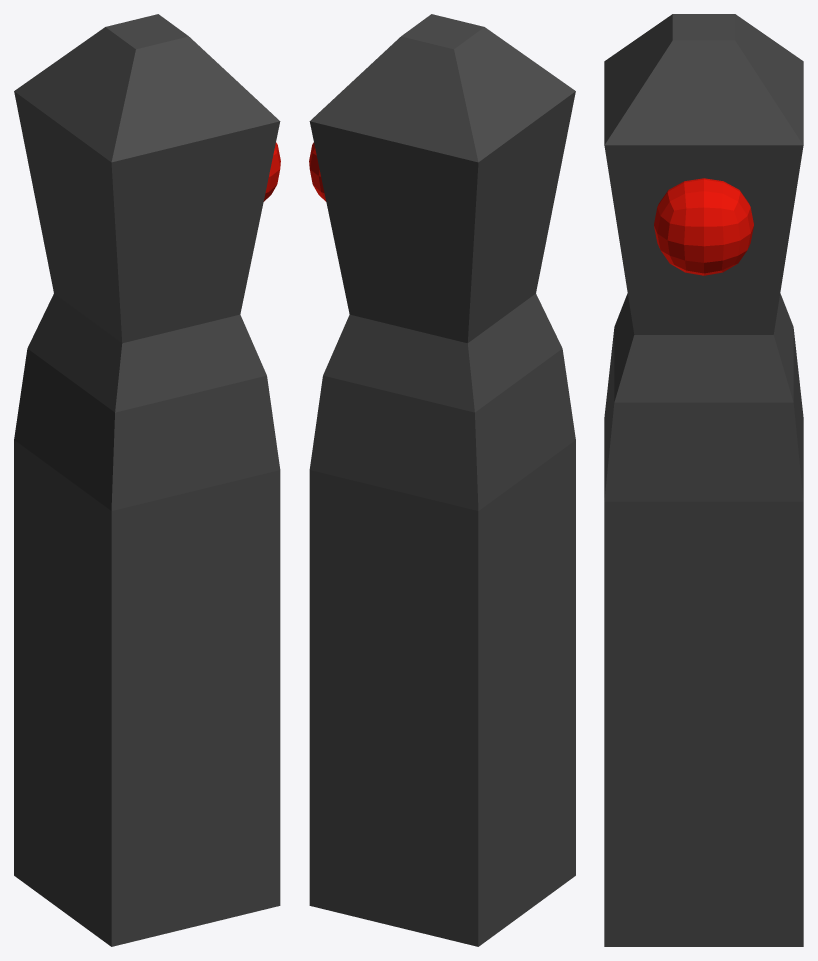
The model's file is button.fbx.
The picture shows the model from 3 angles, left to right: view 1: azimuth 30°, elevation 25°; view 2: azimuth 150°, elevation 25°; view 3: azimuth 270°, elevation 25°; orthographic projection. The views are drawn at different scales.
Visible parts, largest first — view 1: Cube; view 2: Cube; view 3: Cube, Cube.001.
Part boxes in pixels (box(x1,y1,x2,y2)): Cube: box(14, 14, 280, 946); Cube: box(309, 14, 575, 946); Cube: box(604, 14, 803, 946); Cube.001: box(654, 178, 753, 275).
Size of the model in its own units: 125 by 486 by 100.
